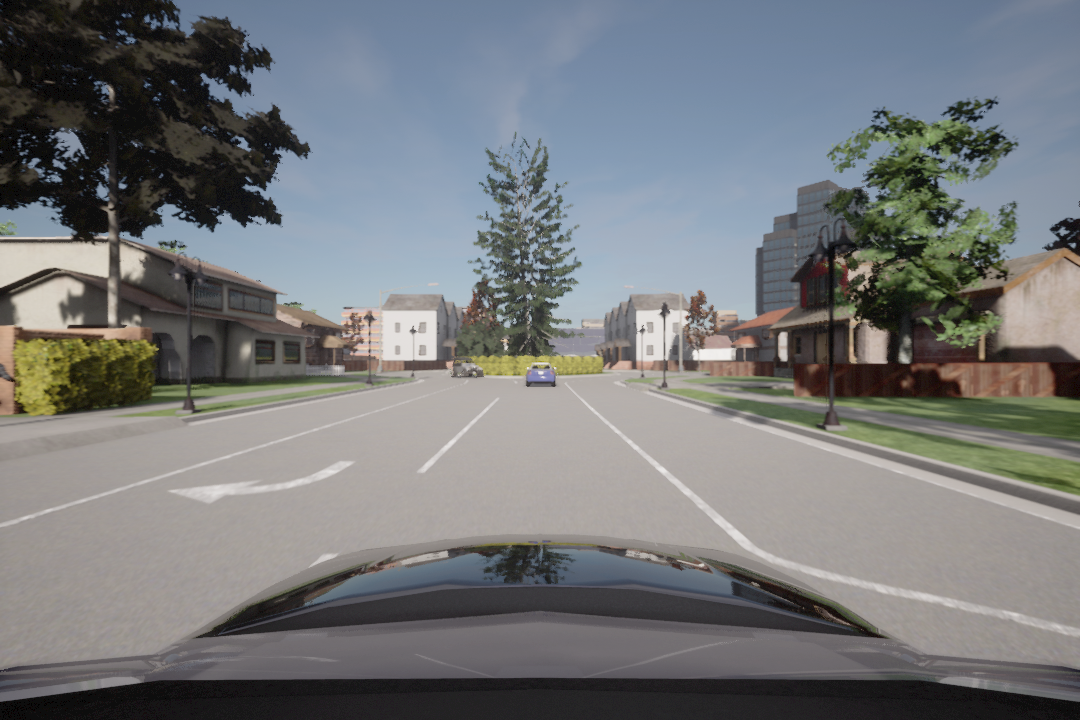RoadSign_right: (161, 454, 357, 511)
